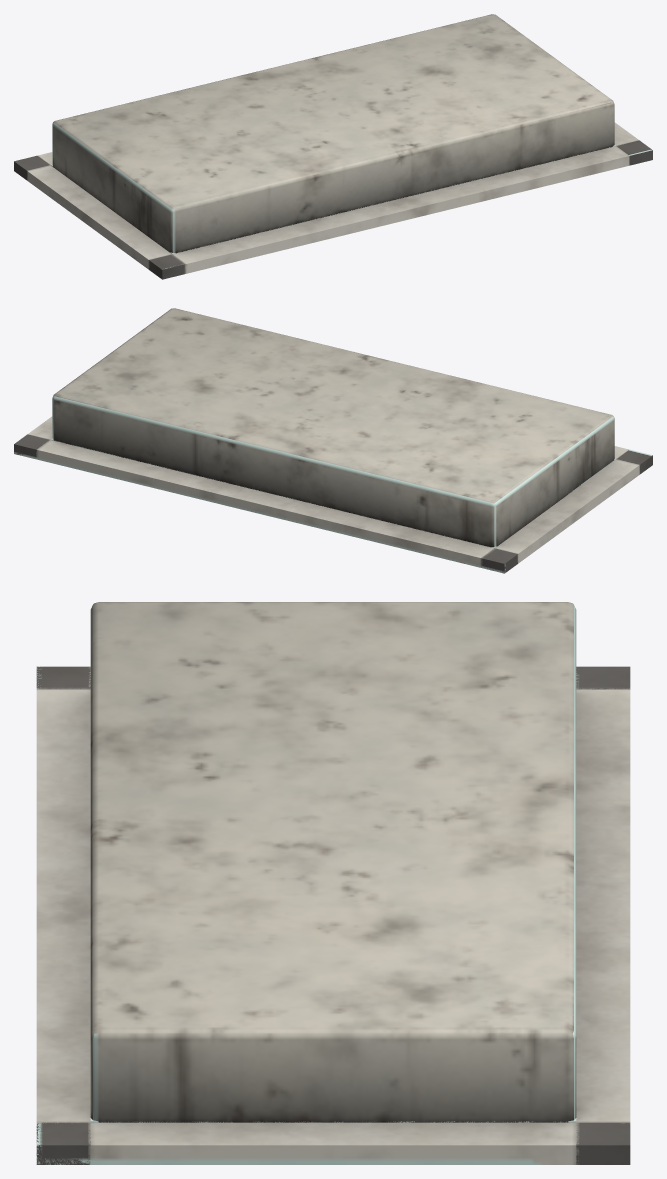
File: light_troffer.fbx
3 renders of one model, top to bottom at view 1: azimuth 30°, elevation 25°; view 2: azimuth 150°, elevation 25°; view 3: azimuth 270°, elevation 25°, orthographic. The views are drawn at different scales.
Visible parts, largest first — view 1: Body; view 2: Body; view 3: Body.
Part boxes in pixels (box(x1,y1,x2,y2)): Body: box(14, 14, 652, 279); Body: box(14, 308, 652, 573); Body: box(36, 602, 630, 1164).
Bounding box in the file's own units: 4.2 × 0.465 × 2.2.
Materials: 1 (1 with a texture image).
